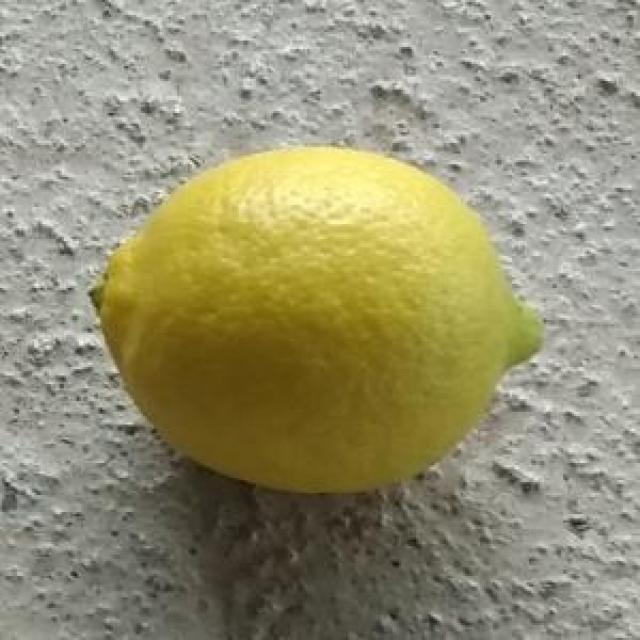lemon: (98, 146, 544, 497)
